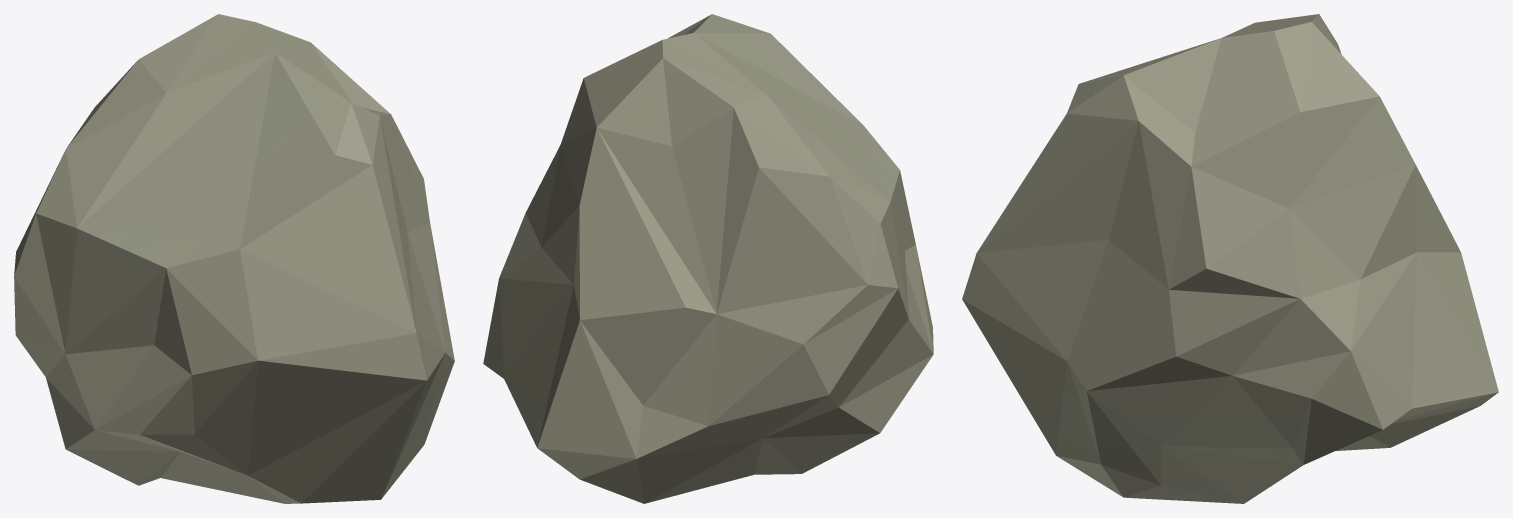
The model's file is SM_rock4.fbx.
3 renders of one model, left to right at view 1: azimuth 30°, elevation 25°; view 2: azimuth 150°, elevation 25°; view 3: azimuth 270°, elevation 25°, orthographic. The views are drawn at different scales.
Parts seen in each view (by area): view 1: SM_rock4; view 2: SM_rock4; view 3: SM_rock4.
Boxes of the visible parts, box(x1,y1,x2,y2) form: SM_rock4: box(14, 14, 454, 503); SM_rock4: box(483, 14, 933, 503); SM_rock4: box(962, 14, 1498, 503).
Bounding box in the file's own units: 94.02 × 101 × 113.
Materials: 1 (1 with a texture image).
